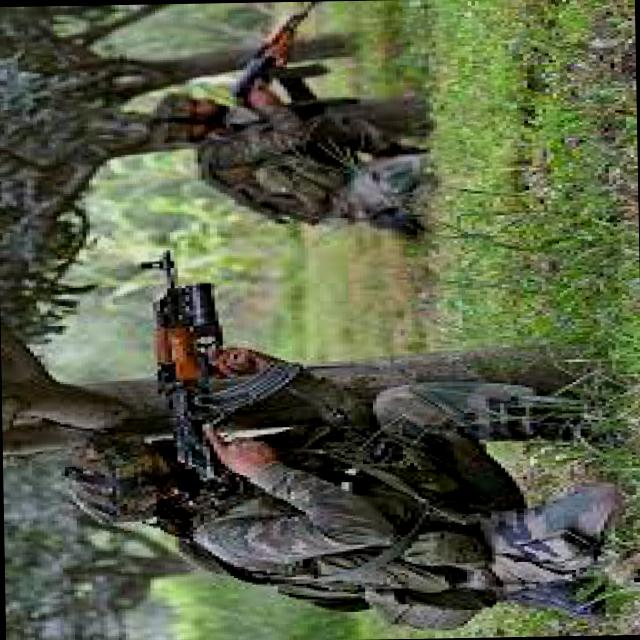long weapon: (131, 246, 312, 428), (218, 0, 342, 110)
